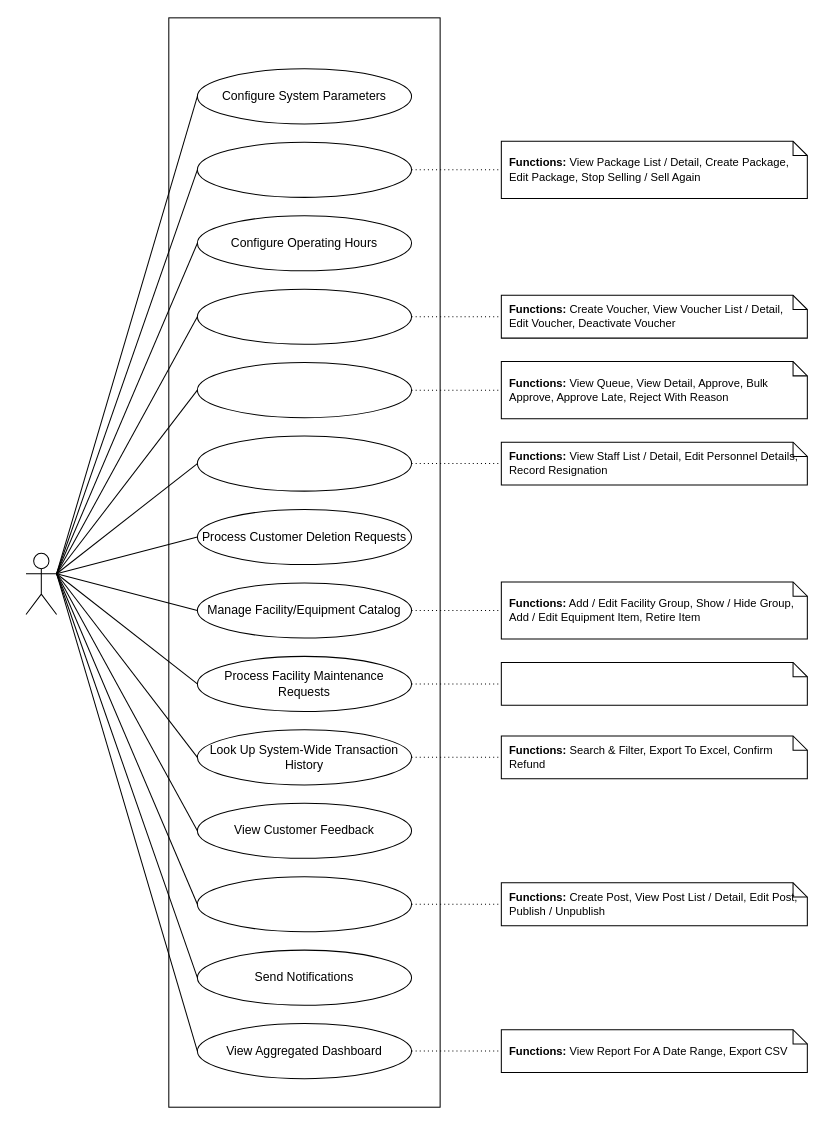
Some shapes in this 825 by 1125 pixel diagram are drawn without their labels. Each missing label, with the box of its shape:
Functions: View Queue, Approve (Set Under Maintenance), Reject With Reason: (500, 661, 807, 705)
Gym Management System: (168, 17, 440, 1107)
Manage Blog Posts: (196, 876, 412, 932)
Manage Personnel Records: (196, 435, 412, 491)
Manage Service Package Catalog: (196, 141, 412, 197)
Manage Vouchers: (196, 288, 412, 344)
Manager: (25, 552, 57, 615)
Process Staff Leave Requests: (196, 362, 412, 418)
